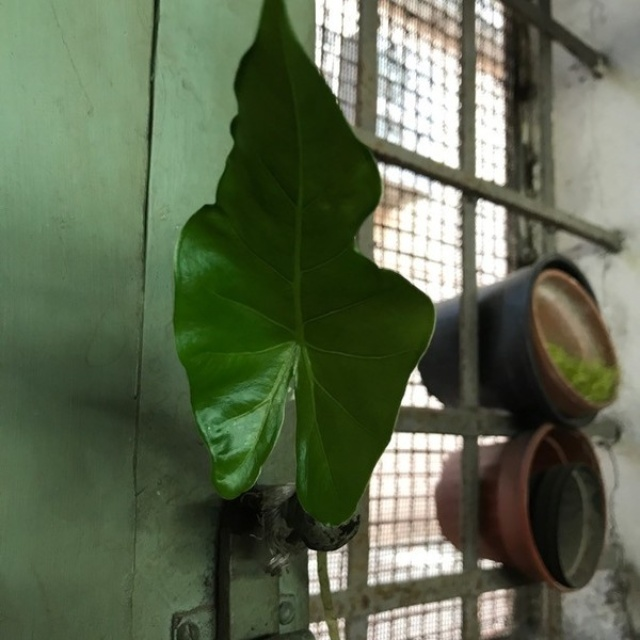obstacle: (173, 14, 387, 554)
